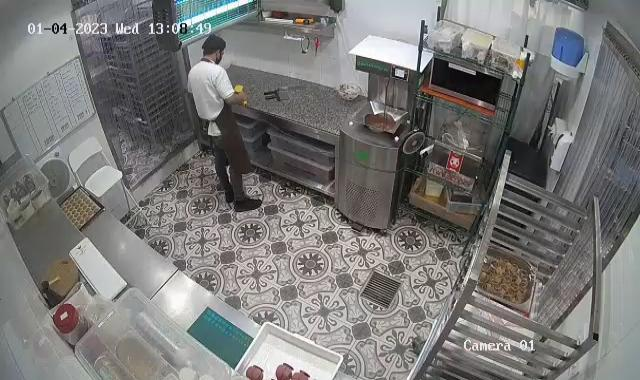no_hairnet: (198, 36, 226, 56)
